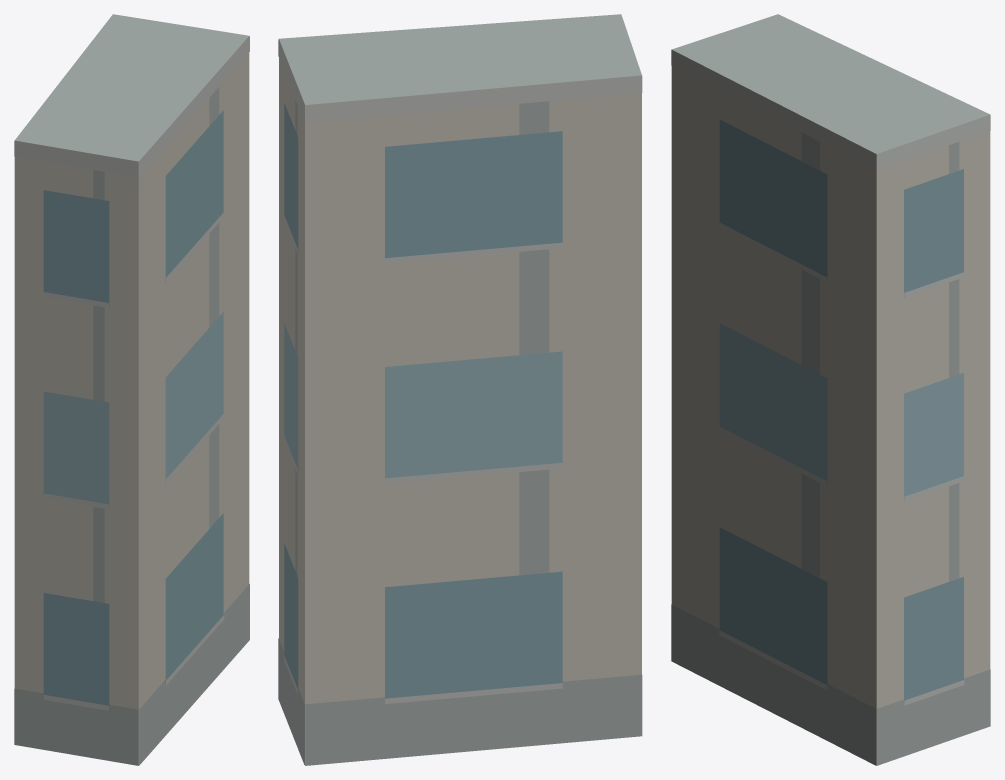
The model's file is survey-upis-32545329.glb.
3 views of the same model, side by side, from view 1: azimuth 30°, elevation 25°; view 2: azimuth 150°, elevation 25°; view 3: azimuth 270°, elevation 25° (orthographic). The views are drawn at different scales.
Parts seen in each view (by area): view 1: survey-upis-32545329.tmp; view 2: survey-upis-32545329.tmp; view 3: survey-upis-32545329.tmp.
Boxes of the visible parts, bbox=[...] form: survey-upis-32545329.tmp: bbox=[14, 14, 249, 765]; survey-upis-32545329.tmp: bbox=[278, 14, 642, 765]; survey-upis-32545329.tmp: bbox=[671, 14, 990, 765].
Bounding box in the file's own units: 4.5 × 9.15 × 4.33.
